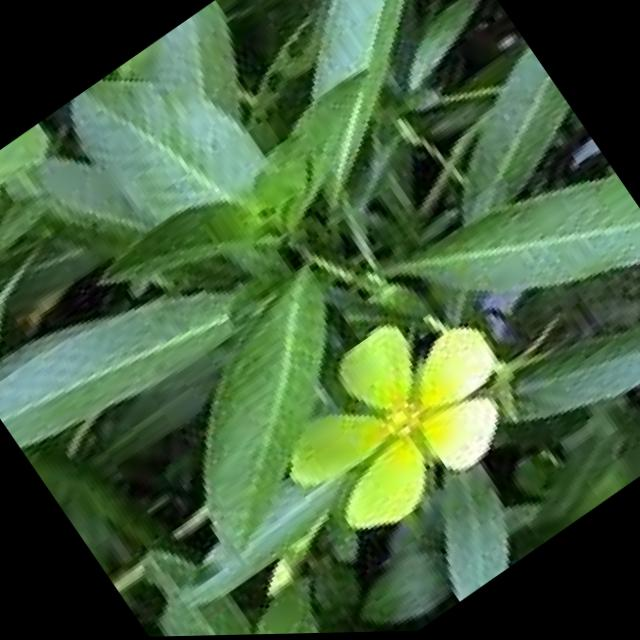Flower: (238, 260, 554, 566)
